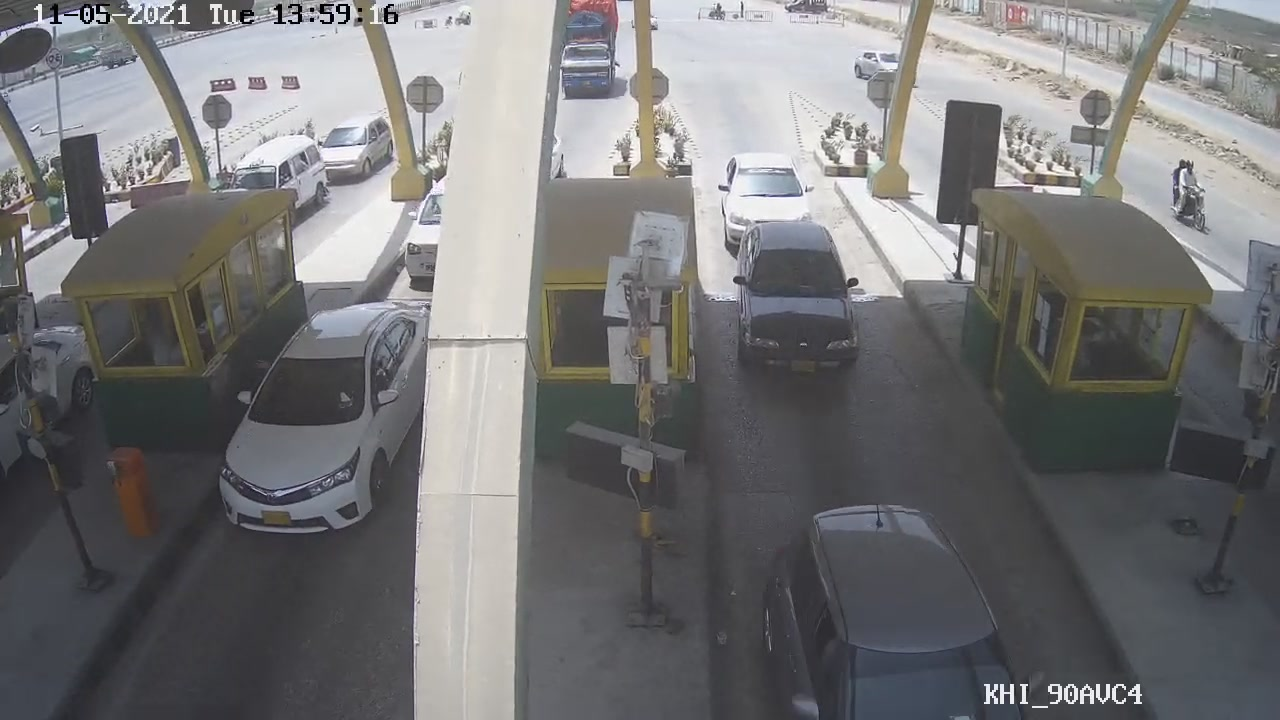F1: (721, 205, 891, 384)
